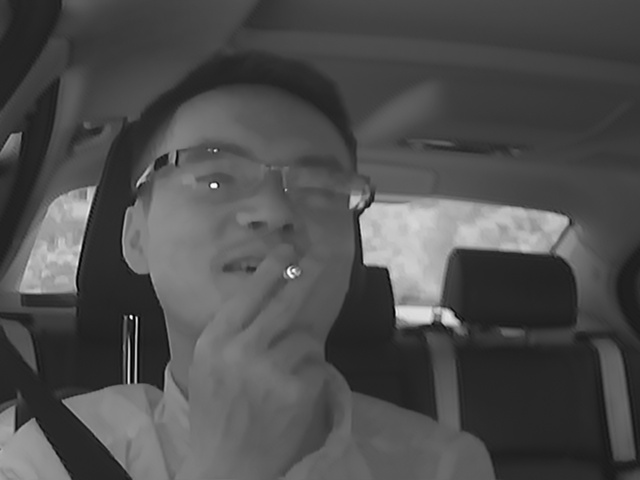hand: (186, 245, 325, 423)
